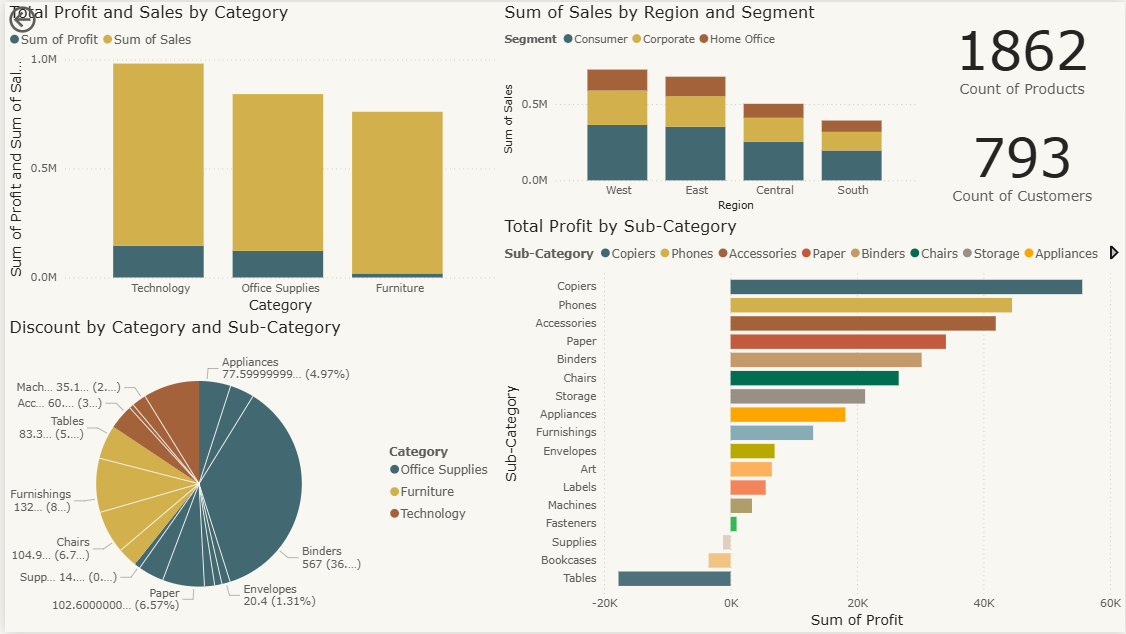

This screenshot's page, from the dashboard's own definition file:
{"tool":"powerbi","page":{"name":"Page 1","canvas":[1280,720],"ordinal":0},"visuals":[{"type":"columnChart","title":"Total Profit and Sales by Category","fields":{"Y":["Sum(Sample - Superstore.Profit)","Sum(Sample - Superstore.Sales)"],"Category":["Sample - Superstore.Category"]},"box":[0,0,565.7,360],"z":0},{"type":"columnChart","fields":{"Y":["Sum(Sample - Superstore.Sales)"],"Category":["Sample - Superstore.Region"],"Series":["Sample - Superstore.Segment"]},"box":[565.7,0,480,261.4],"z":1},{"type":"pieChart","title":"Discount by Category and Sub-Category","fields":{"Category":["Sample - Superstore.Category"],"Y":["Sum(Sample - Superstore.Discount)"],"Series":["Sample - Superstore.Sub-Category"]},"box":[0,360.6,565.9,359.2],"z":2},{"type":"card","fields":{"Values":["Count(Sample - Superstore.Product ID)"]},"box":[1046.2,0,233.8,122.6],"z":3},{"type":"barChart","title":"Total Profit by Sub-Category","fields":{"Y":["Sum(Sample - Superstore.Profit)"],"Category":["Sample - Superstore.Sub-Category"],"Series":["Sample - Superstore.Sub-Category"]},"box":[565.7,244.3,714.3,475.7],"z":4},{"type":"card","fields":{"Values":["Count(Sample - Superstore.Customer ID)"]},"box":[1045.7,122.9,234.3,121.4],"z":5}]}

Visuals, with their boxes in screenshot pixels (x1, y1, x2, y2), scaled from the page's 1280x720 canvas onto the 1126x634 screenshot:
"Total Profit and Sales by Category" columnChart: bbox(0, 0, 498, 317)
columnChart - Sum(Sample - Superstore.Sales) x Sample - Superstore.Region: bbox(498, 0, 920, 230)
"Discount by Category and Sub-Category" pieChart: bbox(0, 318, 498, 633)
card - Count(Sample - Superstore.Product ID): bbox(920, 0, 1125, 108)
"Total Profit by Sub-Category" barChart: bbox(498, 215, 1125, 633)
card - Count(Sample - Superstore.Customer ID): bbox(920, 108, 1125, 215)
